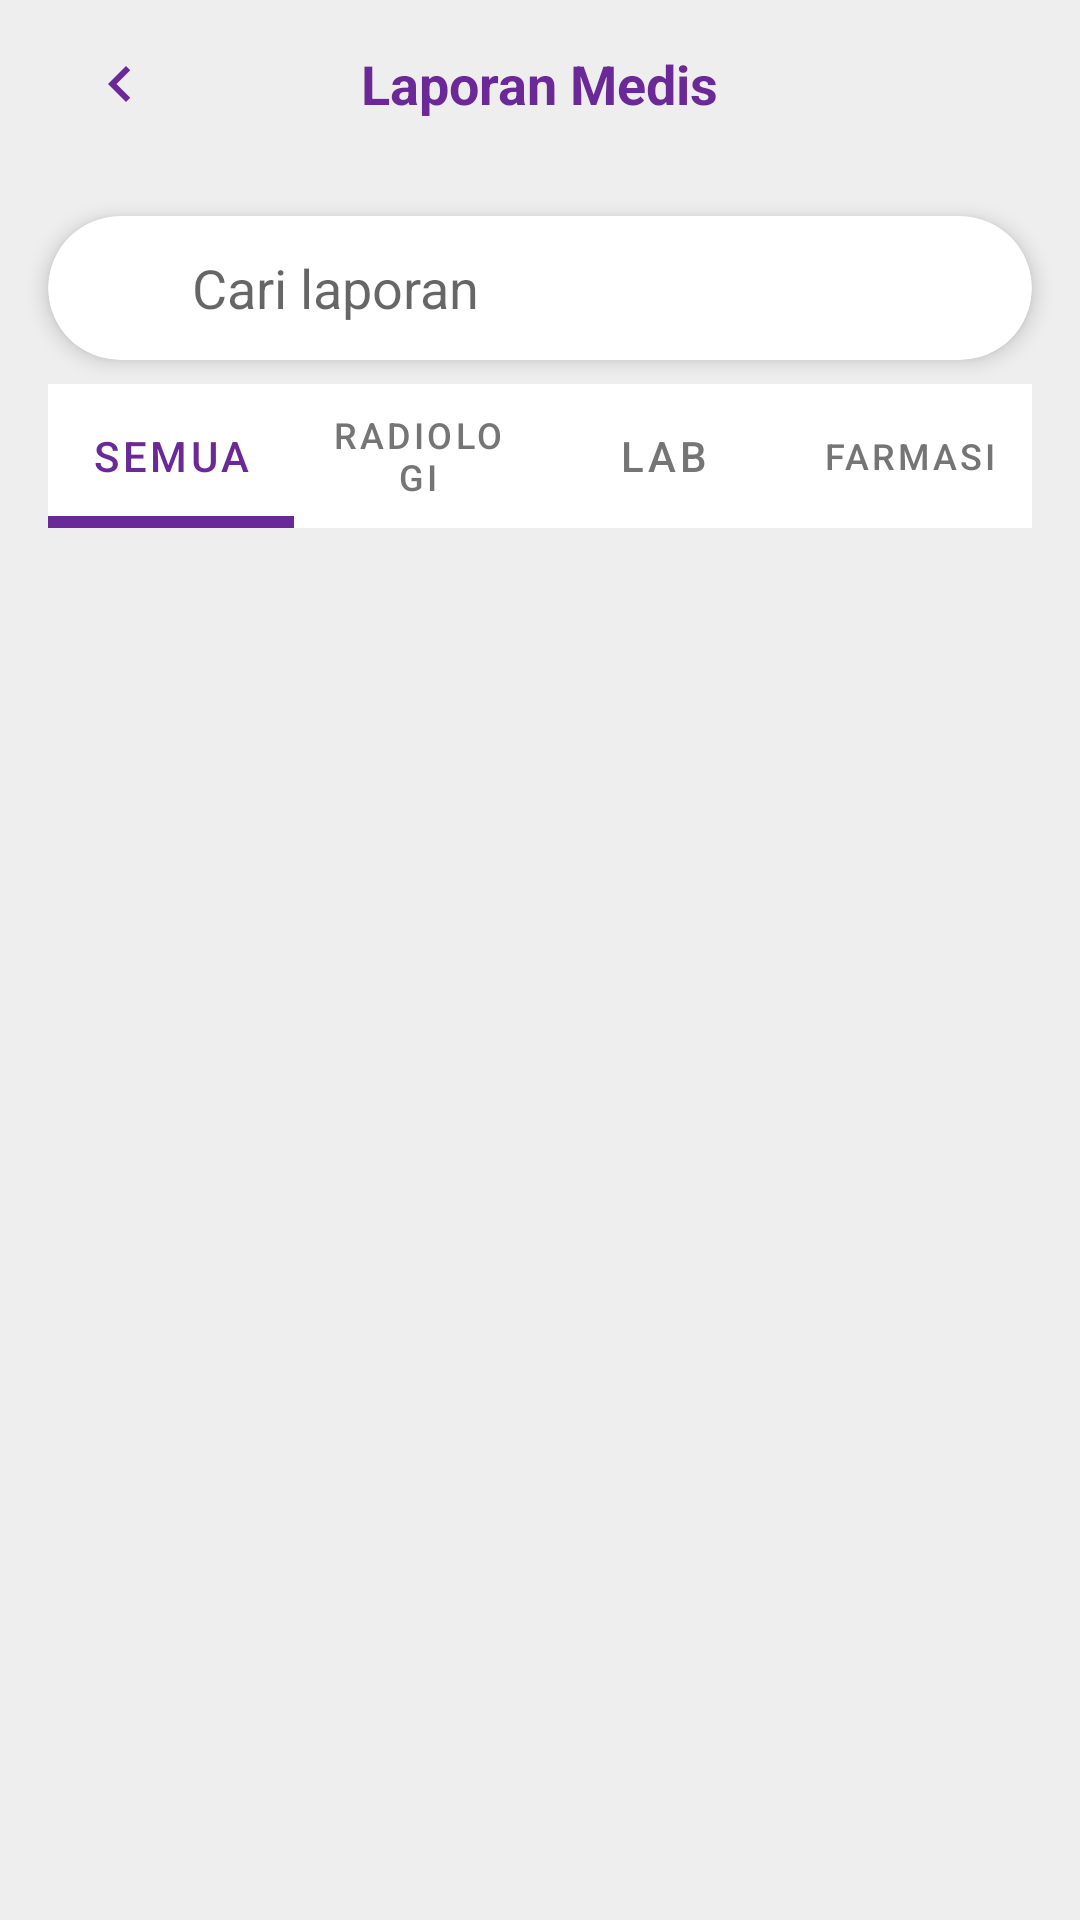

Icons on this 1080 x 1920 Android screen, each with its box as (x1, y1, x2, y2):
Back: (108, 66, 130, 102)
